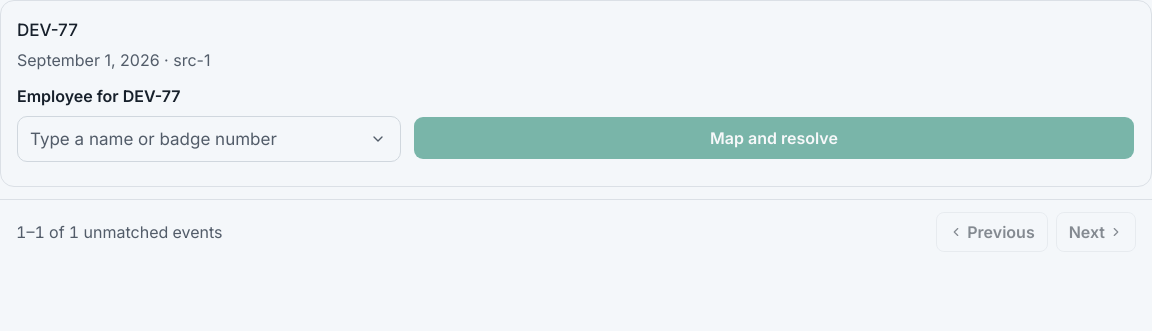
Test: UnmatchedAttendanceQueue › maps an external ID to an employee chosen from a searchable list and confirms it
Expected: the button "Map and resolve" is disabled, [413, 116, 1135, 160]
Type "PAT-002" into the dropdown labelled "Employee for DEV-77" at (209, 139), box [18, 117, 400, 161]
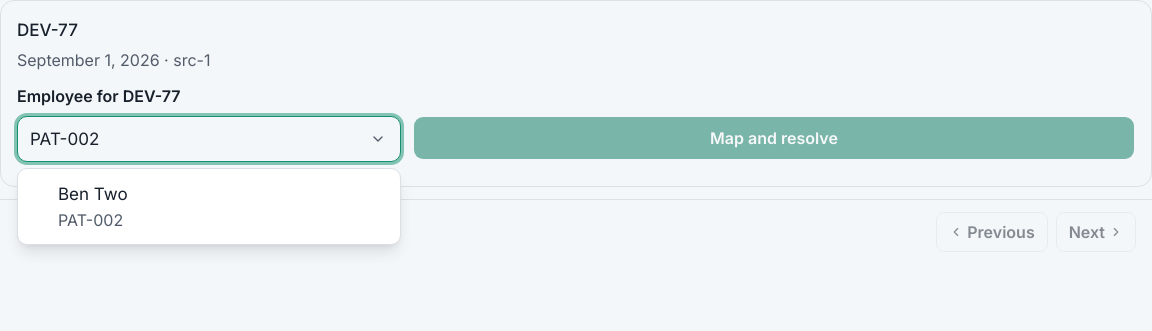
Click the option "Ben Two PAT-002" at (93, 194), box [58, 184, 128, 230]
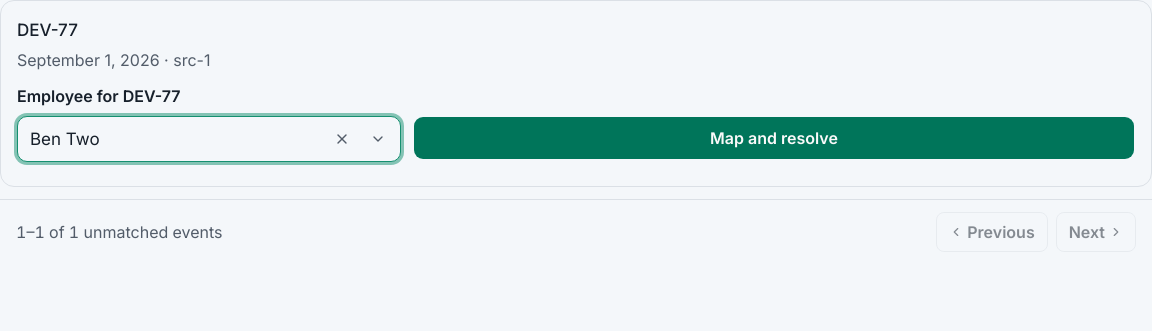
Click the button "Map and resolve" at (774, 138), box [413, 116, 1135, 160]
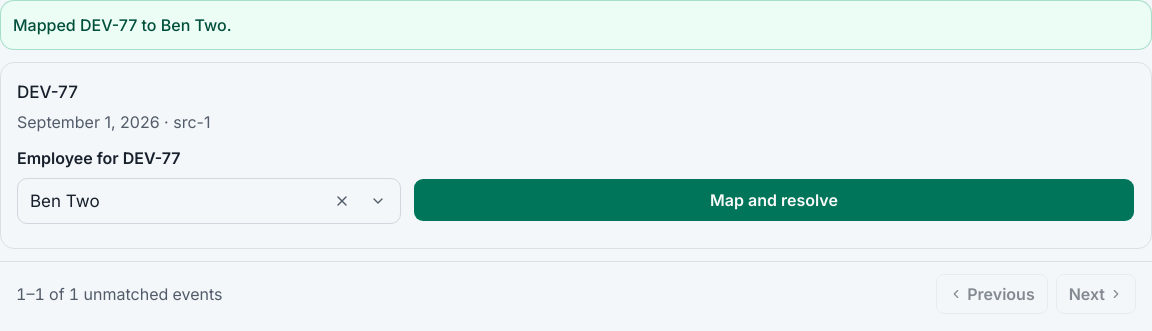
Now the message reads "Mapped DEV-77 to Ben Two.", box [13, 15, 232, 35]
